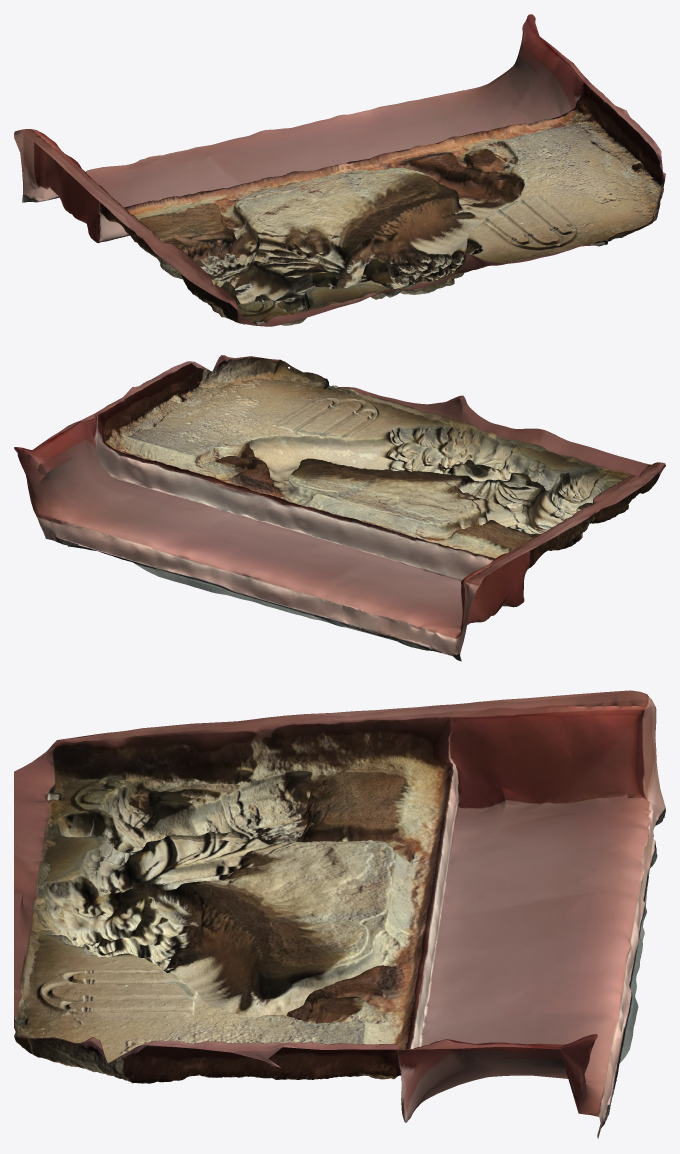
Rendered from loewenherz.glb.
3 views of the same model, one above another, from view 1: azimuth 30°, elevation 25°; view 2: azimuth 150°, elevation 25°; view 3: azimuth 270°, elevation 25° (orthographic). The views are drawn at different scales.
Parts seen in each view (by area): view 1: 3DModel; view 2: 3DModel; view 3: 3DModel.
Boxes of the visible parts, x1,y1,x2,y2 form: 3DModel: (14,14,665,326); 3DModel: (14,355,665,661); 3DModel: (14,690,665,1138).
Bounding box in the file's own units: 1.39 × 0.2311 × 1.08.
1 material, 1 textured.
